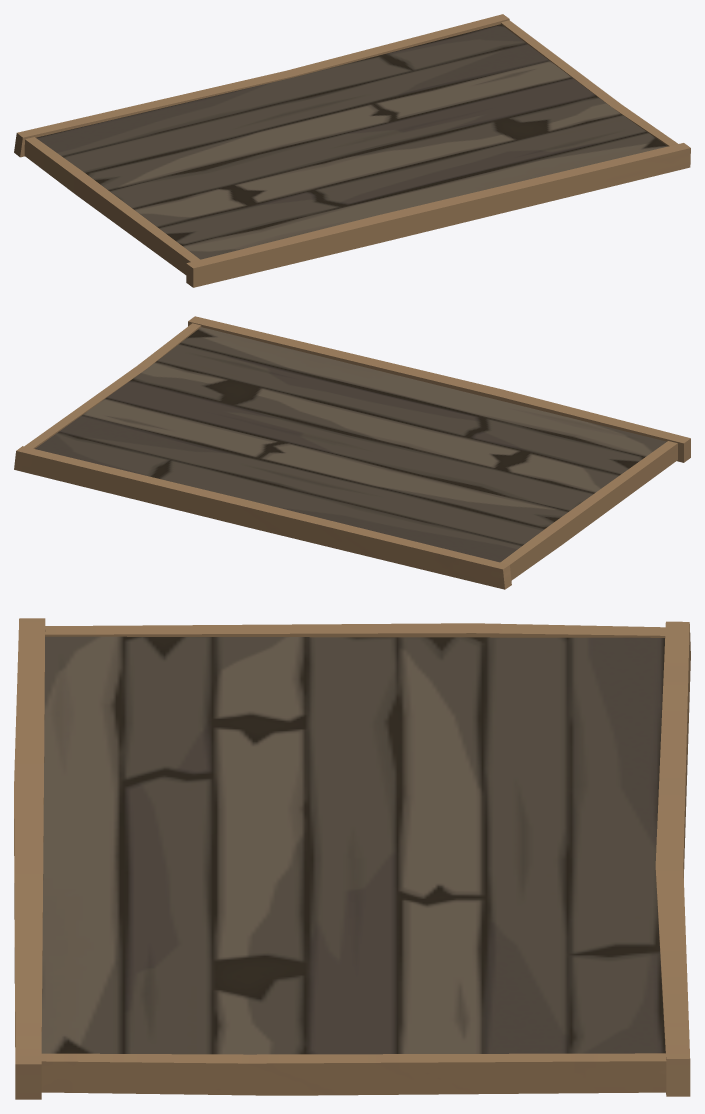
File: SM_Bld_Dock_08.fbx
3 renders of one model, top to bottom at view 1: azimuth 30°, elevation 25°; view 2: azimuth 150°, elevation 25°; view 3: azimuth 270°, elevation 25°, orthographic. The views are drawn at different scales.
Parts seen in each view (by area): view 1: SM_Bld_Dock_08; view 2: SM_Bld_Dock_08; view 3: SM_Bld_Dock_08.
Part boxes in pixels (x1,y1,x2,y2): SM_Bld_Dock_08: [14, 14, 690, 287]; SM_Bld_Dock_08: [14, 316, 690, 589]; SM_Bld_Dock_08: [14, 618, 690, 1099].
Size of the model in its own units: 495 by 21.41 by 317.
